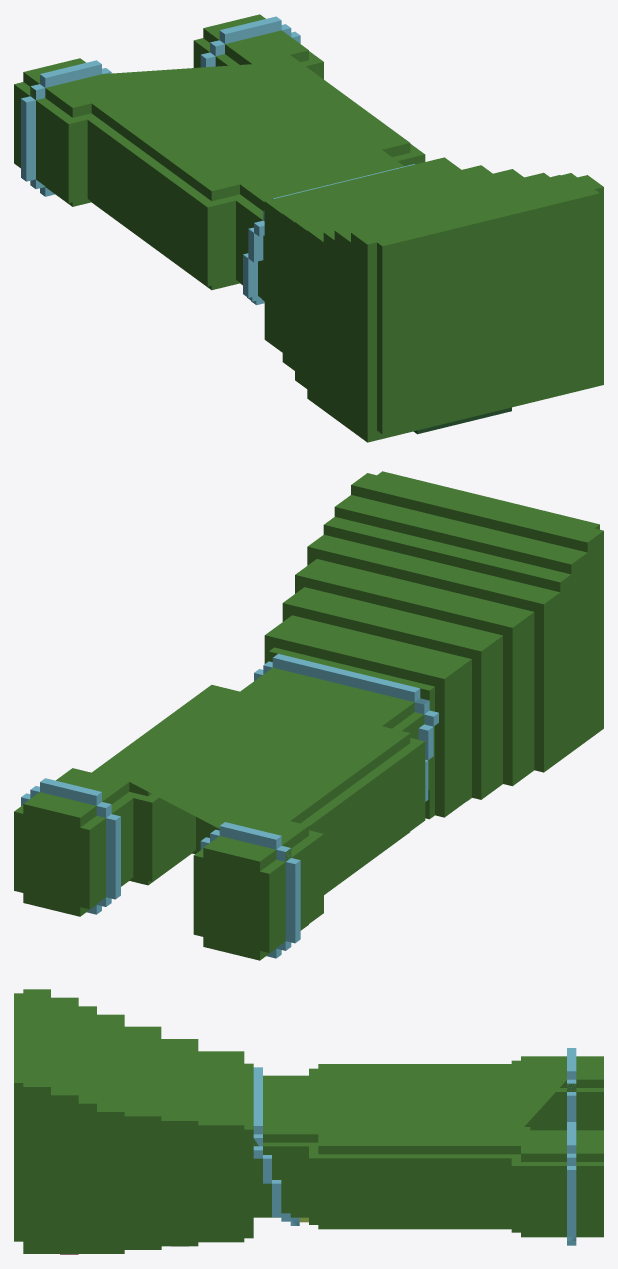
Rendered from Boss_ZeleniHui.fbx.
3 views of the same model, one above another, from view 1: azimuth 30°, elevation 25°; view 2: azimuth 150°, elevation 25°; view 3: azimuth 270°, elevation 25° (orthographic). The views are drawn at different scales.
Visible parts, largest first — view 1: Untitled.045; view 2: Untitled.045; view 3: Untitled.045.
Boxes of the visible parts, x1,y1,x2,y2 form: Untitled.045: [14, 14, 603, 442]; Untitled.045: [14, 471, 603, 960]; Untitled.045: [14, 989, 603, 1254].
Size of the model in its own units: 290 by 220 by 640.
